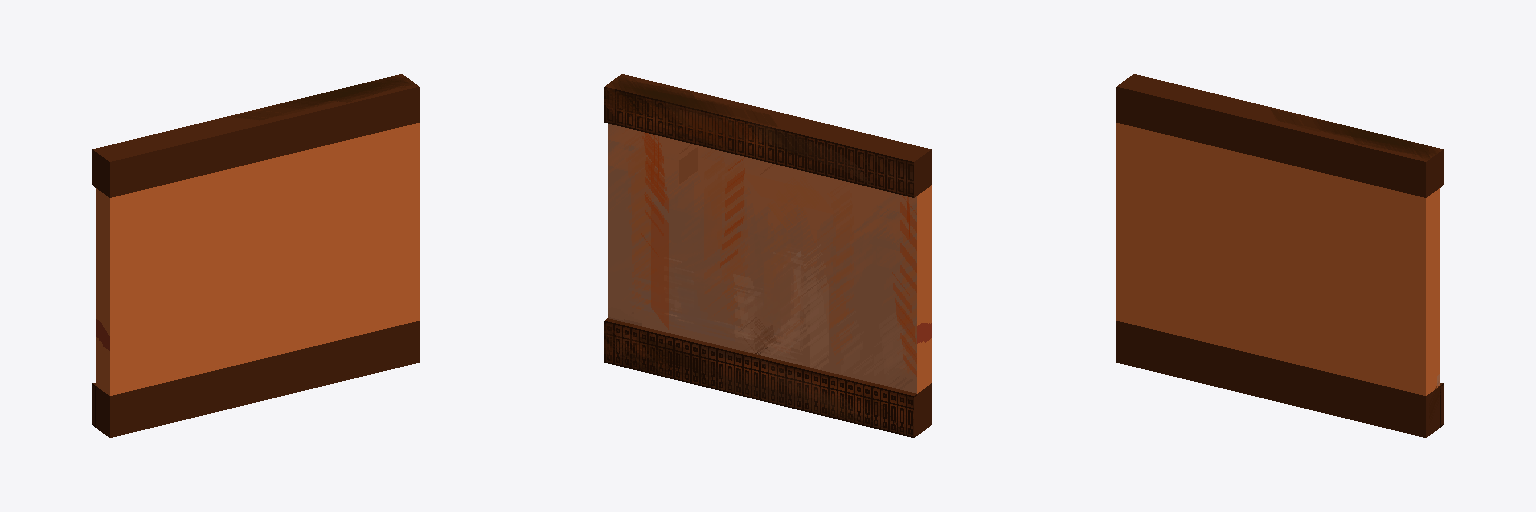
3 views of the same model, side by side, from view 1: azimuth 30°, elevation 25°; view 2: azimuth 150°, elevation 25°; view 3: azimuth 330°, elevation 25° (orthographic).
Visible parts, largest first — view 1: cuboid; view 2: cuboid; view 3: cuboid.
Boxes of the visible parts, x1=… form: cuboid: x1=92, y1=74, x2=419, y2=437; cuboid: x1=604, y1=74, x2=931, y2=437; cuboid: x1=1116, y1=74, x2=1443, y2=437.
Bounding box in the file's own units: 3.38 × 2.88 × 0.3281.
Materials: 1 (1 with a texture image).